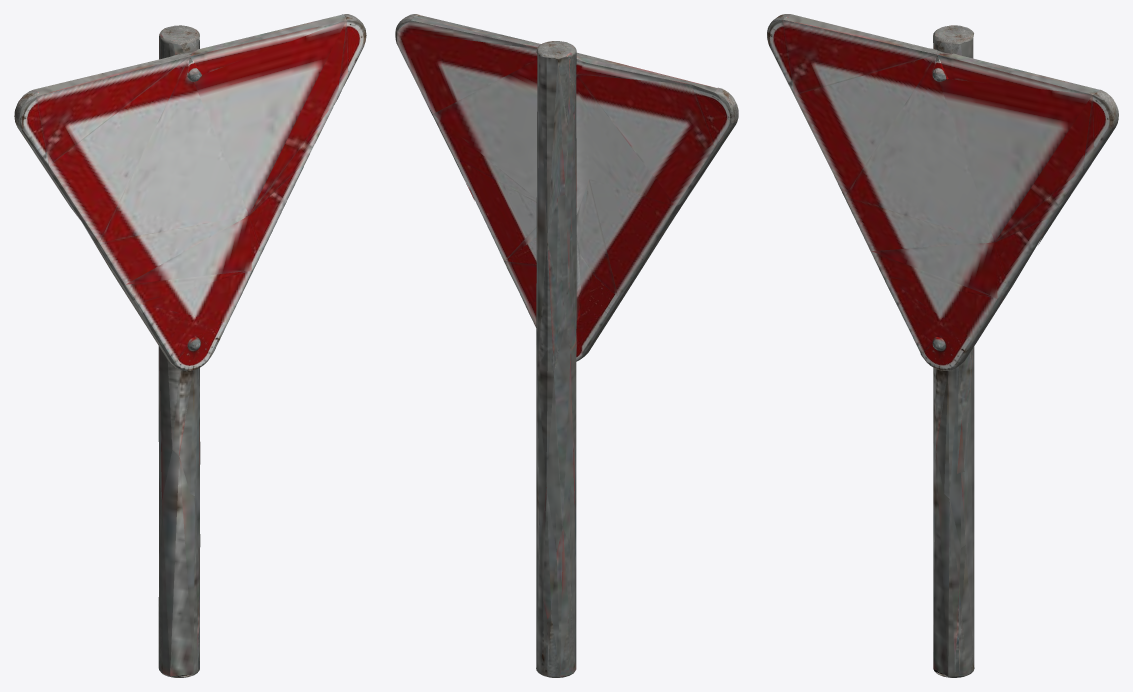
The model's file is Sign_Give_Way_1500.glb.
The picture shows the model from 3 angles, left to right: view 1: azimuth 30°, elevation 25°; view 2: azimuth 150°, elevation 25°; view 3: azimuth 330°, elevation 25°; orthographic projection. The views are drawn at different scales.
Visible parts, largest first — view 1: output_unwrapped; view 2: output_unwrapped; view 3: output_unwrapped.
Part boxes in pixels (bbox=[...]): output_unwrapped: bbox=[14, 14, 366, 677]; output_unwrapped: bbox=[395, 14, 738, 677]; output_unwrapped: bbox=[767, 14, 1118, 677].
Bounding box in the file's own units: 1.43 × 2.5 × 0.2005.
Materials: 1 (1 with a texture image).
